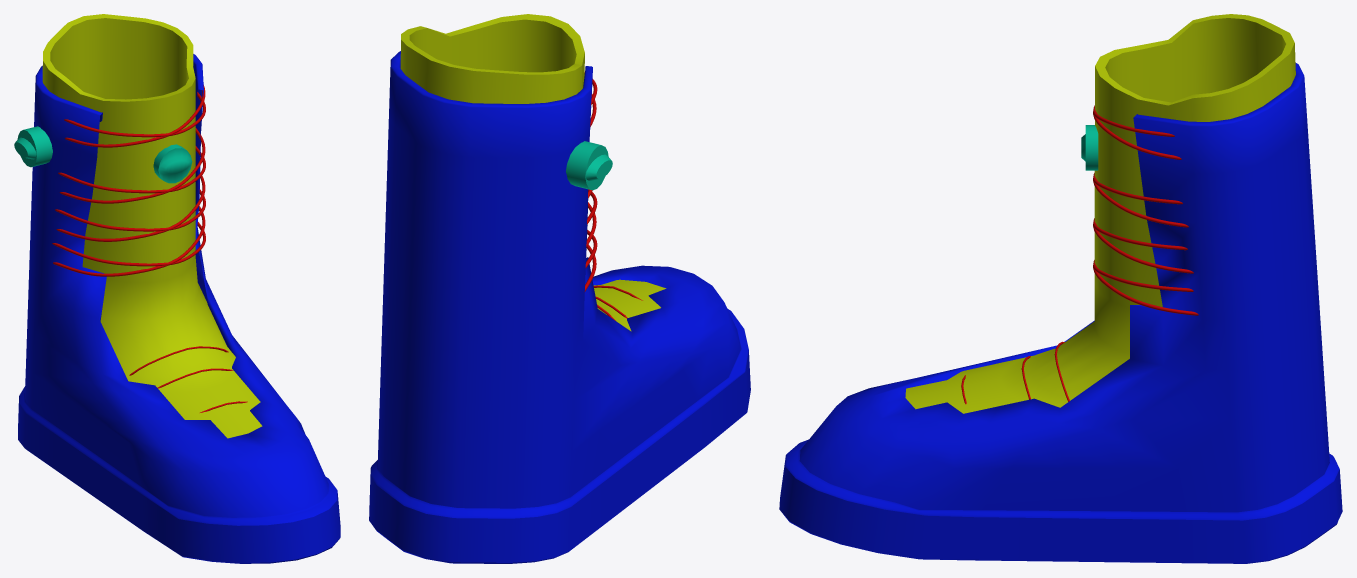
Rendered from shoser.fbx.
3 views of the same model, side by side, from view 1: azimuth 30°, elevation 25°; view 2: azimuth 150°, elevation 25°; view 3: azimuth 270°, elevation 25° (orthographic). The views are drawn at different scales.
Visible parts, largest first — view 1: shoseR; view 2: shoseR; view 3: shoseR.
Part boxes in pixels (left/top/right/bottom): shoseR: left=14, top=14, right=340, bottom=563; shoseR: left=369, top=14, right=750, bottom=563; shoseR: left=779, top=14, right=1342, bottom=563.
Bounding box in the file's own units: 13.9 × 30.11 × 32.34.
